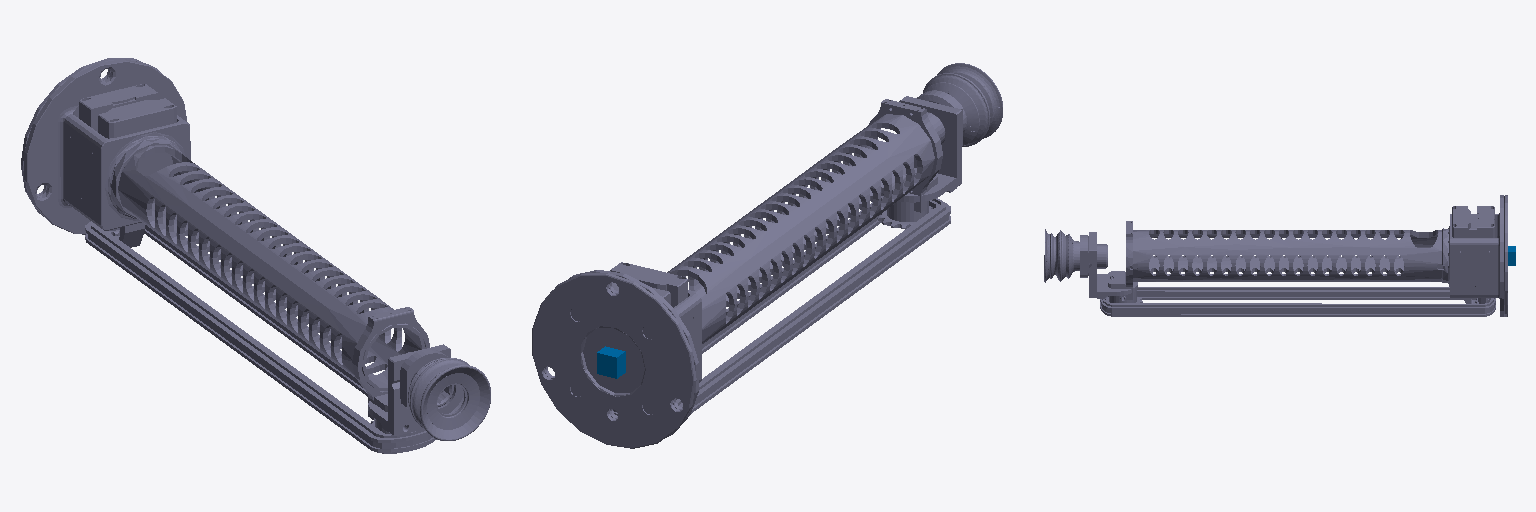
robot.urdf — aubo_i5L_robot:
<?xml version="1.0"?>
<robot name="aubo_i5L_robot">

  <link name="base_link">
    <inertial>
      <origin rpy="0 0 0" xyz="-5.5723E-10 -0.00053181 0.016438"/>
      <mass value="0.5499"/>
      <inertia ixx="0.0011098" ixy="1.3184E-11" ixz="3.3523E-12" iyy="0.0011174" iyz="-1.2673E-05" izz="0.002061"/>
    </inertial>
    <visual>
      <origin rpy="0 0 0" xyz="0 0 0"/>
      <geometry>
        <mesh filename="package://aubo_description/meshes/aubo_i5l/base_link.STL"/>
      </geometry>
     <material name="black">
        <color rgba="0.25098 0.25098 0.25098"/>
      </material>
    </visual>
    <collision>
      <origin rpy="0 0 0" xyz="0 0 0"/>
      <geometry>
        <mesh filename="package://aubo_description/meshes/aubo_i5l/base_link.STL"/>
      </geometry>
    </collision>
  </link>
  <link name="shoulder_Link">
    <inertial>
      <origin rpy="0 0 0" xyz="1.8797E-06 0.0063705 -0.014752"/>
      <mass value="1.4505"/>
      <inertia ixx="0.0032429" ixy="5.3132E-08" ixz="-1.3896E-08" iyy="0.0031222" iyz="-0.00024889" izz="0.0027718"/>
    </inertial>
    <visual>
      <origin rpy="0 0 0" xyz="0 0 0"/>
      <geometry>
        <mesh filename="package://aubo_description/meshes/aubo_i5l/shoulder_Link.STL"/>
      </geometry>
       <material name="orange">
        <color rgba="1 0.65098 0 1"/>
      </material>
    </visual>
    <collision>
      <origin rpy="0 0 0" xyz="0 0 0"/>
      <geometry>
        <mesh filename="package://aubo_description/meshes/aubo_i5l/shoulder_Link.STL"/>
      </geometry>
    </collision>
  </link>
  <joint name="shoulder_joint" type="revolute">
    <origin rpy="0 0 3.1416" xyz="0 0 0.122"/>
    <parent link="base_link"/>
    <child link="shoulder_Link"/>
    <axis xyz="0 0 1"/>
    <limit effort="0" lower="-3.05" upper="3.05" velocity="0"/>
  </joint>
  <link name="upperArm_Link">
    <inertial>
      <origin rpy="0 0 0" xyz="0.304 1.1022E-06 0.0069544"/>
      <mass value="3.552"/>
      <inertia ixx="0.0075968" ixy="-3.9847E-07" ixz="1.2349E-09" iyy="0.28172" iyz="3.2578E-07" izz="0.28066"/>
    </inertial>
    <visual>
      <origin rpy="0 0 0" xyz="0 0 0"/>
      <geometry>
        <mesh filename="package://aubo_description/meshes/aubo_i5l/upperArm_Link.STL"/>
      </geometry>
       <material name="orange">
        <color rgba="1 0.65098 0 1"/>
      </material>
    </visual>
    <collision>
      <origin rpy="0 0 0" xyz="0 0 0"/>
      <geometry>
        <mesh filename="package://aubo_description/meshes/aubo_i5l/upperArm_Link.STL"/>
      </geometry>
    </collision>
  </link>
  <joint name="upperArm_joint" type="revolute">
    <origin rpy="-1.5708 -1.5708 0" xyz="0 0.1215 0"/>
    <parent link="shoulder_Link"/>
    <child link="upperArm_Link"/>
    <axis xyz="0 0 1"/>
    <limit effort="0" lower="-3.05" upper="3.05" velocity="0"/>
  </joint>
  <link name="foreArm_Link">
    <inertial>
      <origin rpy="0 0 0" xyz="0.47998 -3.2016E-06 0.096041"/>
      <mass value="0.90769"/>
      <inertia ixx="0.0010698" ixy="-3.7747E-07" ixz="0.00094801" iyy="0.034604" iyz="2.1581E-07" izz="0.034439"/>
    </inertial>
    <visual>
      <origin rpy="0 0 0" xyz="0 0 0"/>
      <geometry>
        <mesh filename="package://aubo_description/meshes/aubo_i5l/foreArm_Link.STL"/>
      </geometry>
        <material name="orange">
        <color rgba="1 0.65098 0 1"/>
      </material>
    </visual>
    <collision>
      <origin rpy="0 0 0" xyz="0 0 0"/>
      <geometry>
        <mesh filename="package://aubo_description/meshes/aubo_i5l/foreArm_Link.STL"/>
      </geometry>
    </collision>
  </link>
  <joint name="foreArm_joint" type="revolute">
    <origin rpy="-3.1416 0 0" xyz="0.608 0 0"/>
    <parent link="upperArm_Link"/>
    <child link="foreArm_Link"/>
    <axis xyz="0 0 1"/>
    <limit effort="0" lower="-3.05" upper="3.05" velocity="0"/>
  </joint>
  <link name="wrist1_Link">
    <inertial>
      <origin rpy="0 0 0" xyz="4.9891E-07 0.013119 -0.0045696"/>
      <mass value="0.44686"/>
      <inertia ixx="0.00048851" ixy="-3.823E-09" ixz="8.3651E-09" iyy="0.00036127" iyz="-3.9646E-05" izz="0.00046417"/>
    </inertial>
    <visual>
      <origin rpy="0 0 0" xyz="0 0 0"/>
      <geometry>
        <mesh filename="package://aubo_description/meshes/aubo_i5l/wrist1_Link.STL"/>
      </geometry>
     <material name="orange">
        <color rgba="1 0.65098 0 1"/>
      </material>
    </visual>
    <collision>
      <origin rpy="0 0 0" xyz="0 0 0"/>
      <geometry>
        <mesh filename="package://aubo_description/meshes/aubo_i5l/wrist1_Link.STL"/>
      </geometry>
    </collision>
  </link>
  <joint name="wrist1_joint" type="revolute">
    <origin rpy="3.1416 -1.1102E-16 1.5708" xyz="0.6395 0 0"/>
    <parent link="foreArm_Link"/>
    <child link="wrist1_Link"/>
    <axis xyz="0 0 1"/>
    <limit effort="0" lower="-3.05" upper="3.05" velocity="0"/>
  </joint>
  <link name="wrist2_Link">
    <inertial>
      <origin rpy="0 0 0" xyz="-4.9891E-07 -0.013119 -0.0045696"/>
      <mass value="0.44686"/>
      <inertia ixx="0.00048851" ixy="-3.823E-09" ixz="-8.3651E-09" iyy="0.00036127" iyz="3.9646E-05" izz="0.00046417"/>
    </inertial>
    <visual>
      <origin rpy="0 0 0" xyz="0 0 0"/>
      <geometry>
        <mesh filename="package://aubo_description/meshes/aubo_i5l/wrist2_Link.STL"/>
      </geometry>
      <material name="orange">
        <color rgba="1 0.65098 0 1"/>
      </material>
    </visual>
    <collision>
      <origin rpy="0 0 0" xyz="0 0 0"/>
      <geometry>
        <mesh filename="package://aubo_description/meshes/aubo_i5l/wrist2_Link.STL"/>
      </geometry>
    </collision>
  </link>
  <joint name="wrist2_joint" type="revolute">
    <origin rpy="-1.5708 0 -1.6653E-16" xyz="0 0.1025 0"/>
    <parent link="wrist1_Link"/>
    <child link="wrist2_Link"/>
    <axis xyz="0 0 1"/>
    <limit effort="0" lower="-3.05" upper="3.05" velocity="0"/>
  </joint>
  <link name="wrist3_Link">
    <inertial>
      <origin rpy="0 0 0" xyz="2.2512E-08 0.00029937 -0.018058"/>
      <mass value="0.14035"/>
      <inertia ixx="6.1524E-05" ixy="-1.0358E-10" ixz="3.0206E-11" iyy="5.9833E-05" iyz="4.033E-07" izz="9.5362E-05"/>
    </inertial>
    <visual>
      <origin rpy="0 0 0" xyz="0 0 0"/>
      <geometry>
        <mesh filename="package://aubo_description/meshes/aubo_i5l/wrist3_Link.STL"/>
      </geometry>
      <material name="black">
        <color rgba="0.25098 0.25098 0.25098"/>
      </material>
    </visual>
    <collision>
      <origin rpy="0 0 0" xyz="0 0 0"/>
      <geometry>
        <mesh filename="package://aubo_description/meshes/aubo_i5l/wrist3_Link.STL"/>
      </geometry>
    </collision>
  </link>
  <joint name="wrist3_joint" type="revolute">
    <origin rpy="1.5708 -1.6653E-16 0" xyz="0 -0.094 0"/>
    <parent link="wrist2_Link"/>
    <child link="wrist3_Link"/>
    <axis xyz="0 0 1"/>
    <limit effort="0" lower="-3.05" upper="3.05" velocity="0"/>
  </joint>
  <link name="w2_Link">
    <inertial>
      <origin rpy="0 0 0" xyz="-3.646E-06 0.047634 0.0038418"/>
      <mass value="0.021594"/>
      <inertia ixx="1.4206E-05" ixy="3.911E-10" ixz="2.2226E-09" iyy="2.3397E-05" iyz="1.7259E-06" izz="1.4321E-05"/>
    </inertial>
    <visual>
      <origin rpy="0 0 0" xyz="0 0 0"/>
      <geometry>
        <mesh filename="package://aubo_description/meshes/aubo_i5l/w2_Link.STL"/>
      </geometry>
      <material name="black">
        <color rgba="0.25098 0.25098 0.25098"/>
      </material>
    </visual>
    <collision>
      <origin rpy="0 0 0" xyz="0 0 0"/>
      <geometry>
        <mesh filename="package://aubo_description/meshes/aubo_i5l/w2_Link.STL"/>
      </geometry>
    </collision>
  </link>
  <joint name="w2_joint" type="fixed">
    <origin rpy="0 0 0" xyz="0 0 0"/>
    <parent link="wrist2_Link"/>
    <child link="w2_Link"/>
    <axis xyz="0 0 0"/>
  </joint>
  <link name="w1_Link">
    <inertial>
      <origin rpy="0 0 0" xyz="3.646E-06 -0.047634 0.0038418"/>
      <mass value="0.021594"/>
      <inertia ixx="1.4206E-05" ixy="3.911E-10" ixz="-2.2226E-09" iyy="2.3397E-05" iyz="-1.7259E-06" izz="1.4321E-05"/>
    </inertial>
    <visual>
      <origin rpy="0 0 0" xyz="0 0 0"/>
      <geometry>
        <mesh filename="package://aubo_description/meshes/aubo_i5l/w1_Link.STL"/>
      </geometry>
      <material name="black">
        <color rgba="0.25098 0.25098 0.25098"/>
      </material>
    </visual>
    <collision>
      <origin rpy="0 0 0" xyz="0 0 0"/>
      <geometry>
        <mesh filename="package://aubo_description/meshes/aubo_i5l/w1_Link.STL"/>
      </geometry>
    </collision>
  </link>
  <joint name="w1_joint" type="fixed">
    <origin rpy="0 0 0" xyz="0 0 0"/>
    <parent link="wrist1_Link"/>
    <child link="w1_Link"/>
    <axis xyz="0 0 0"/>
  </joint>
  <link name="u_Link">
    <inertial>
      <origin rpy="0 0 0" xyz="0.64334 -3.6405E-06 0.15013"/>
      <mass value="0.021594"/>
      <inertia ixx="1.4321E-05" ixy="2.224E-09" ixz="1.7259E-06" iyy="1.4206E-05" iyz="3.9014E-10" izz="2.3397E-05"/>
    </inertial>
    <visual>
      <origin rpy="0 0 0" xyz="0 0 0"/>
      <geometry>
        <mesh filename="package://aubo_description/meshes/aubo_i5l/u_Link.STL"/>
      </geometry>
      <material name="black">
        <color rgba="0.25098 0.25098 0.25098"/>
      </material>
    </visual>
    <collision>
      <origin rpy="0 0 0" xyz="0 0 0"/>
      <geometry>
        <mesh filename="package://aubo_description/meshes/aubo_i5l/u_Link.STL"/>
      </geometry>
    </collision>
  </link>
  <joint name="u_joint" type="fixed">
    <origin rpy="3.2724E-33 0 0" xyz="0 0 0"/>
    <parent link="foreArm_Link"/>
    <child link="u_Link"/>
    <axis xyz="0 0 0"/>
  </joint>
  <link name="f1_Link">
    <inertial>
      <origin rpy="0 0 0" xyz="0.30397 -0.00049907 0.08414"/>
      <mass value="0.22341"/>
      <inertia ixx="0.00030759" ixy="3.3453E-05" ixz="0.00029518" iyy="0.021935" iyz="-3.0561E-06" izz="0.022161"/>
    </inertial>
    <visual>
      <origin rpy="0 0 0" xyz="0 0 0"/>
      <geometry>
        <mesh filename="package://aubo_description/meshes/aubo_i5l/f1_Link.STL"/>
      </geometry>
      <material name="black">
        <color rgba="0.25098 0.25098 0.25098"/>
      </material>
    </visual>
    <collision>
      <origin rpy="0 0 0" xyz="0 0 0"/>
      <geometry>
        <mesh filename="package://aubo_description/meshes/aubo_i5l/f1_Link.STL"/>
      </geometry>
    </collision>
  </link>
  <joint name="f1_joint" type="fixed">
    <origin rpy="0 0 0" xyz="0 0 0"/>
    <parent link="upperArm_Link"/>
    <child link="f1_Link"/>
    <axis xyz="0 0 0"/>
  </joint>
  <link name="s_Link">
    <inertial>
      <origin rpy="0 0 0" xyz="6.0938E-06 -0.0072488 0.058805"/>
      <mass value="0.11171"/>
      <inertia ixx="0.00014572" ixy="-3.291E-09" ixz="-8.2879E-09" iyy="0.00015181" iyz="-1.8811E-05" izz="0.00026098"/>
    </inertial>
    <visual>
      <origin rpy="0 0 0" xyz="0 0 0"/>
      <geometry>
        <mesh filename="package://aubo_description/meshes/aubo_i5l/s_Link.STL"/>
      </geometry>
      <material name="black">
        <color rgba="0.25098 0.25098 0.25098"/>
      </material>
    </visual>
    <collision>
      <origin rpy="0 0 0" xyz="0 0 0"/>
      <geometry>
        <mesh filename="package://aubo_description/meshes/aubo_i5l/s_Link.STL"/>
      </geometry>
    </collision>
  </link>
  <joint name="s_joint" type="fixed">
    <origin rpy="0 0 0" xyz="0 0 0"/>
    <parent link="shoulder_Link"/>
    <child link="s_Link"/>
    <axis xyz="0 0 0"/>
  </joint>

  <link name="ee_link">
    <collision>
      <geometry>
        <box size="0.01 0.01 0.01"/>
      </geometry>
      <origin rpy="0 0 0" xyz="0 0 0"/>
    </collision>
     <visual>
    <origin xyz="0 0 0" rpy="0 0 0"/>
    <geometry>
      <box size="0.01 0.01 0.01"/>
    </geometry>
  </visual>
  </link>

  <joint name="ee_fixed_joint" type="fixed">
      <parent link="wrist3_Link" />
      <child link = "ee_link" />
      <origin xyz="0.0 0.0 0.0" rpy="0.0 0.0 1.57" />
    </joint>


<!-- Gripper V1.1 -->

  <link name="vacuum_gripper">
    <inertial> 
      <origin xyz="0 0 0" rpy="0 0 0"/> <mass value="0.8"/> <inertia ixx="0.1" ixy="0.0" ixz="0.0" iyy="0.1" iyz="0.0" izz="0.1"/>
    </inertial>
    <visual>
      <geometry>
        <!-- <mesh filename="package://aubo_description/meshes/gripper/vacuum/Gripper_V1_1_Body.stl" /> -->
        <mesh filename="package://aubo_description/meshes/gripper/vacuum/Gripper_V1_1_Body_300mm.stl" />
      </geometry>
      <material name="metal">
        <color rgba="0.5 0.5 0.6 1"/>
      </material>
    </visual>
    <collision>
      <geometry>
        <!-- <mesh filename="package://aubo_description/meshes/gripper/vacuum/Gripper_V1_1_Body_collision.dae" /> -->
        <mesh filename="package://aubo_description/meshes/gripper/vacuum/Gripper_V1_1_Body_300mm.stl" />
      </geometry>
       <material name="metal">
        <color rgba="0.5 0.5 0.6 1"/>
      </material>
    </collision>
  </link>

<!-- end of arm-vacuum gripper coupling link definitions --> 

  <!-- start of arm-gripper coupling joint definitions -->
  <joint name="wrist_to_gripper" type="fixed">
    <parent link="ee_link"/>
    <child link="vacuum_gripper"/>
    <origin xyz="0.0 0.0 0.0" rpy="0.0 1.57 0"/>
  </joint>

  <link name="vacuum_gripper_eef_link">
    <inertial> 
      <origin xyz="0 0 0" rpy="0 0 0"/> <mass value="0.1"/> <inertia ixx="0.1" ixy="0.0" ixz="0.0" iyy="0.1" iyz="0.0" izz="0.1"/>
    </inertial>
    <visual>
      <geometry>
        <mesh filename="package://aubo_description/meshes/gripper/vacuum/Gripper_V1_1_Cup.stl" />
      </geometry>
      <material name="metal">
        <color rgba="0.5 0.5 0.6 1"/>
      </material>
    </visual>
    <collision>
      <geometry>
        <mesh filename="package://aubo_description/meshes/gripper/vacuum/Gripper_V1_1_Cup_collision.dae" />
      </geometry>
       <material name="metal">
        <color rgba="0.5 0.5 0.6 1"/>
      </material>
    </collision>
  </link>

  <joint name="gripper_to_eef" type="fixed">
    <parent link="vacuum_gripper"/>
    <child link="vacuum_gripper_eef_link"/>
   <!-- <origin xyz="-0.55086 0.0 0.03418" rpy="0 0.0 0.0" />  -->
      <origin xyz="-0.25086 0.0 0.03418" rpy="0 0.0 0.0" /> 
      <axis xyz="0 0 1" />
      <limit lower="-1.8" upper="1.8" effort="28.0" velocity="12.14"/>
      <dynamics damping="0.0" friction="0.0"/>
  </joint>

  <link name="eef_to_suction" />

  <joint name="suction" type="fixed">
    <parent link="vacuum_gripper_eef_link"/>
    <child link="eef_to_suction"/>
    <origin xyz="-0.06 0.0 -0.03418" rpy="0.0 0.0 3.14159"/>
  </joint>

  <transmission name="gripper_eef_trans">
    <type>transmission_interface/SimpleTransmission</type>
    <joint name="gripper_to_eef">
      <hardwareInterface>PositionJointInterface</hardwareInterface>
    </joint>
    <actuator name="gripper_eef_motor">
      <mechanicalReduction>1</mechanicalReduction>
    </actuator>
  </transmission>

  <link name="world" />
  <joint name="world_joint" type="fixed">
    <parent link="world" />
    <child link = "base_link" />
    <origin xyz="0.0 0.0 1.2" rpy="0.0 3.14 0.0" />
  </joint>

</robot>

--- Facts derived from the render (not from the file) ---
Views: 3 orthographic renders of the robot side by side, from view 1: azimuth 30°, elevation 25°; view 2: azimuth 150°, elevation 25°; view 3: azimuth 270°, elevation 25°.
Robot: aubo_i5L_robot — 17 links, 16 joints (6 revolute, 10 fixed); root link world; default pose: every joint at zero.
Visible links, largest first — view 1: vacuum_gripper, vacuum_gripper_eef_link; view 2: vacuum_gripper, vacuum_gripper_eef_link, ee_link; view 3: vacuum_gripper, vacuum_gripper_eef_link.
Link boxes in pixels (x1,y1,x2,y2): vacuum_gripper: [21, 58, 436, 453]; vacuum_gripper_eef_link: [368, 344, 490, 440]; vacuum_gripper: [532, 99, 950, 448]; vacuum_gripper_eef_link: [877, 63, 1002, 229]; ee_link: [597, 346, 625, 378]; vacuum_gripper: [1100, 195, 1507, 316]; vacuum_gripper_eef_link: [1044, 229, 1142, 302].
Bounding box of the posed robot: 0.08 × 0.3074 × 0.0797 m (x, y, z).
Meshes: 14 distinct files referenced, 2 mesh visuals loaded (2 binary STL); not drawn: 12 (reference not matched to a file when rendering).